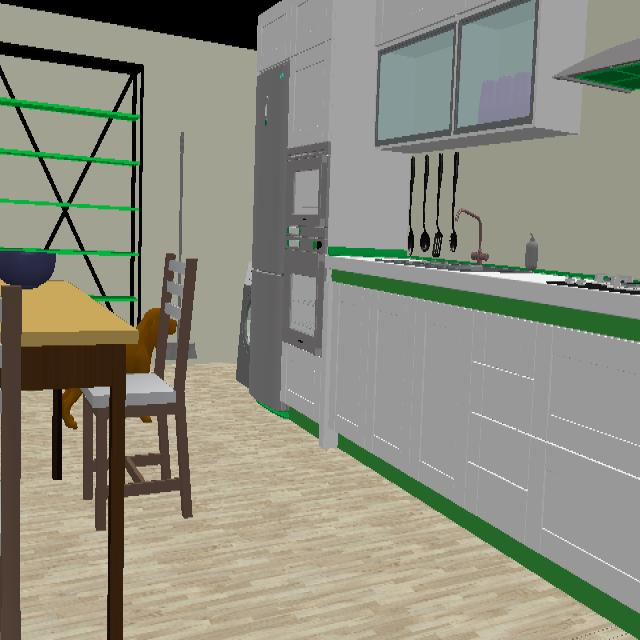cabinet: (332, 284, 640, 616), (257, 0, 589, 249)
chair: (124, 261, 197, 519)
countertop: (327, 247, 640, 343)
fridge: (249, 60, 290, 411)
microwave: (286, 144, 330, 237)
oven: (283, 236, 326, 357)
sink: (374, 209, 532, 272)
stove: (546, 272, 640, 295)
table: (20, 280, 139, 640)
